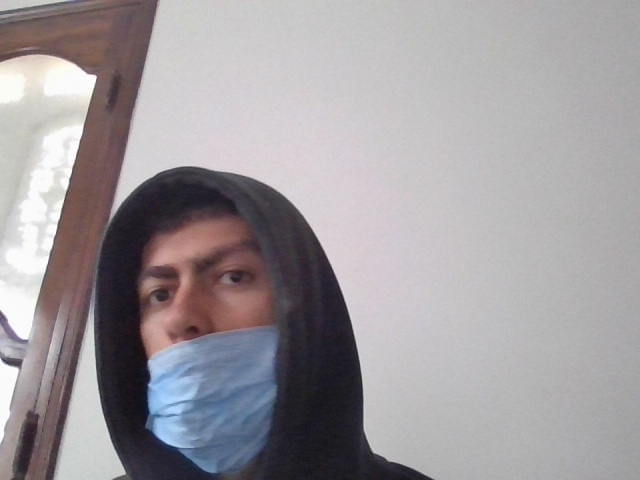mask_weared_incorrect: (127, 187, 296, 479)
